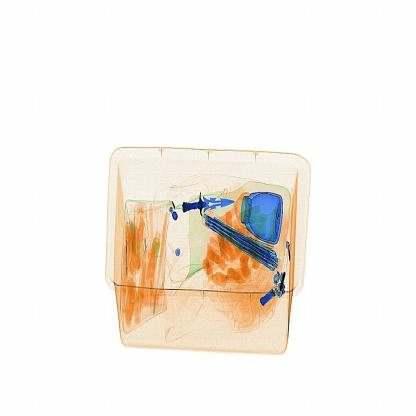wrench: (175, 184, 246, 221)
